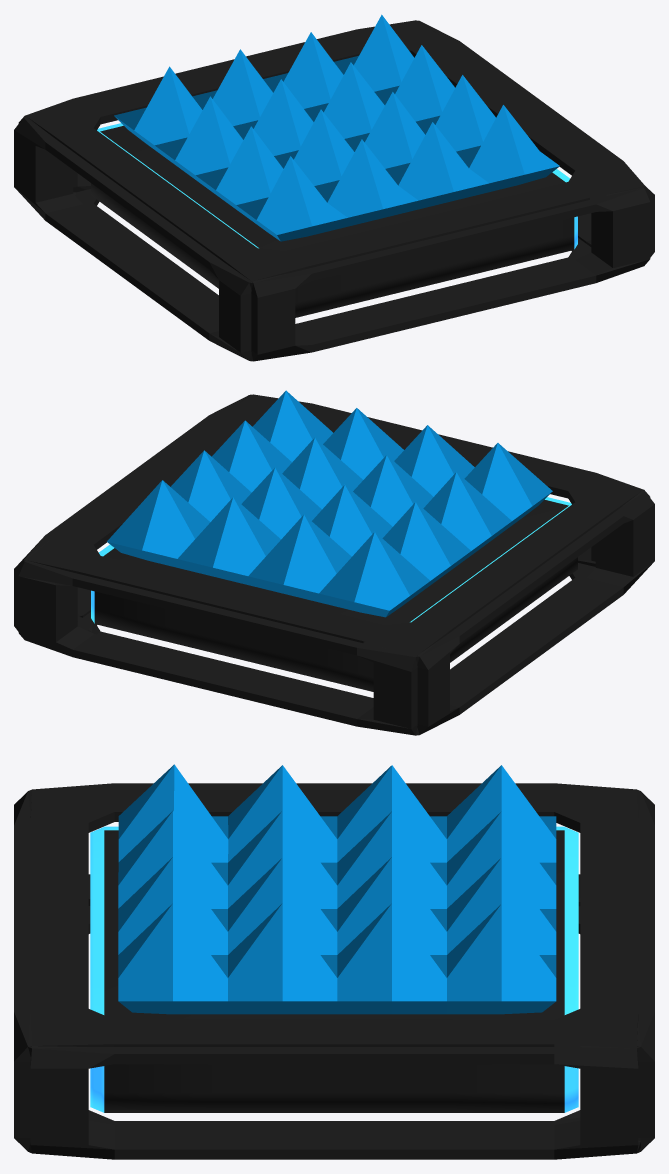
File: SPIKES  tile.fbx
3 views of the same model, one above another, from view 1: azimuth 30°, elevation 25°; view 2: azimuth 150°, elevation 25°; view 3: azimuth 270°, elevation 25° (orthographic). The views are drawn at different scales.
Visible parts, largest first — view 1: black tile.001, Plane, black tile.000; view 2: black tile.001, Plane, black tile.000; view 3: black tile.001, Plane, black tile.000.
Part boxes in pixels (left/top/right/bottom): black tile.001: left=14, top=20, right=654, bottom=361; Plane: left=114, top=14, right=559, bottom=241; black tile.000: left=91, top=123, right=577, bottom=317; black tile.001: left=14, top=394, right=654, bottom=735; Plane: left=107, top=390, right=552, bottom=617; black tile.000: left=91, top=497, right=577, bottom=691; black tile.001: left=14, top=783, right=654, bottom=1159; Plane: left=118, top=764, right=556, bottom=1014; black tile.000: left=90, top=826, right=578, bottom=1112.
Size of the model in its own units: 501 by 168 by 501.
